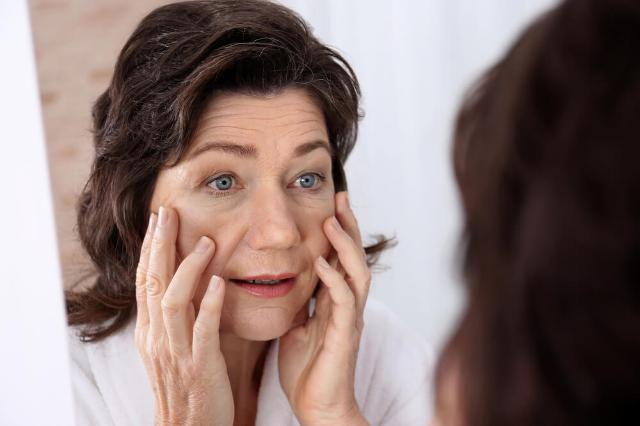chin: (253, 301, 283, 315)
forehead: (284, 102, 320, 138), (205, 108, 247, 136)
gummy_smile: (224, 233, 243, 263)
